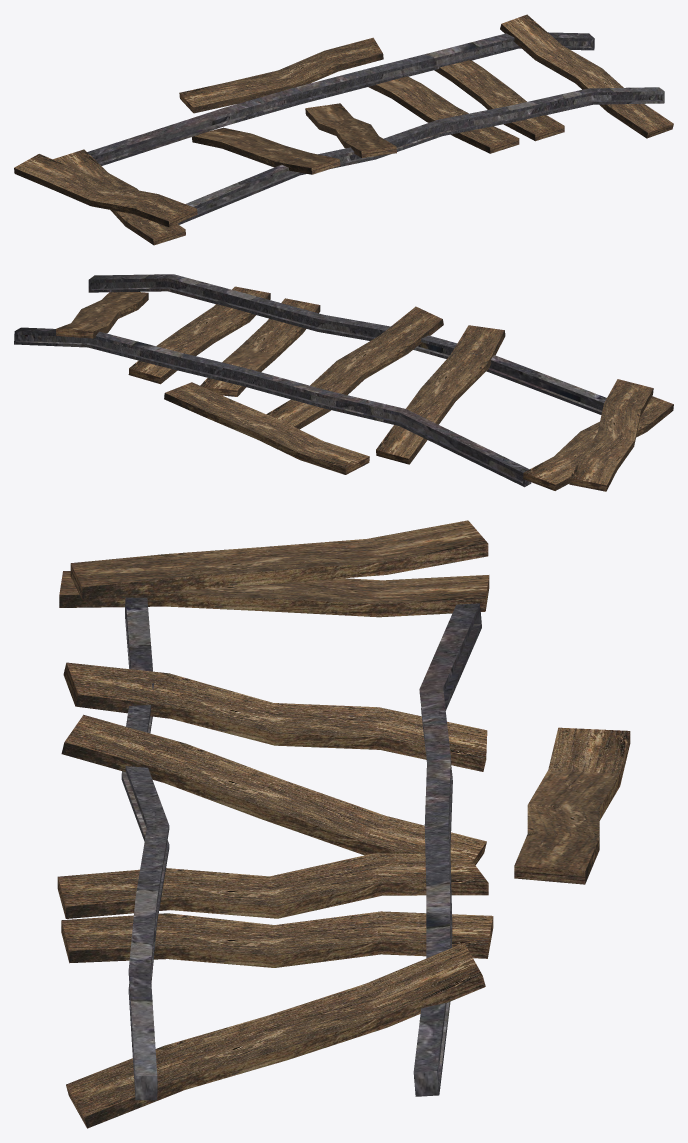
The model's file is broken_rails.fbx.
3 views of the same model, one above another, from view 1: azimuth 30°, elevation 25°; view 2: azimuth 150°, elevation 25°; view 3: azimuth 270°, elevation 25° (orthographic). The views are drawn at different scales.
Visible parts, largest first — view 1: planks, rails; view 2: planks, rails; view 3: planks, rails.
Boxes of the visible parts, box(x1,y1,x2,y2) form: planks: box(14, 14, 673, 245); rails: box(87, 32, 664, 224); planks: box(56, 286, 673, 491); rails: box(14, 274, 606, 487); planks: box(57, 520, 630, 1128); rails: box(121, 597, 481, 1100).
Size of the model in its own units: 9684 by 909 by 4231.
Materials: 2 (2 with a texture image).
